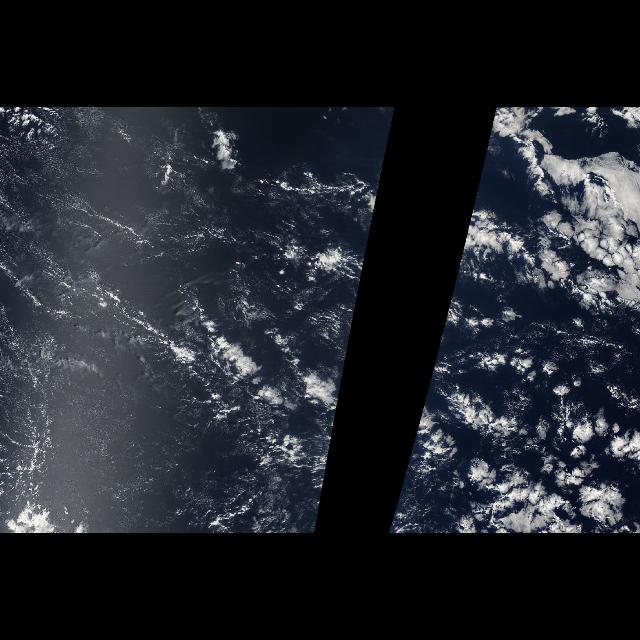Flower: (392, 120, 638, 524), (192, 120, 392, 520)
Sugar: (4, 110, 260, 492)
